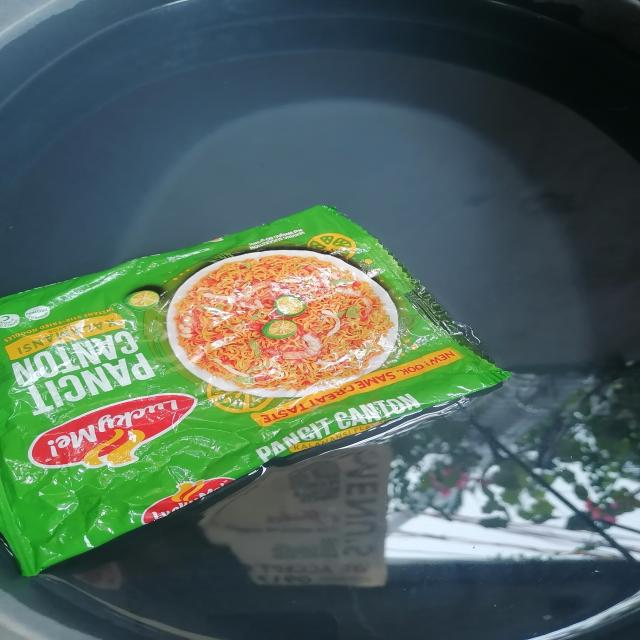Plastic Wrapper: (0, 184, 527, 592)
